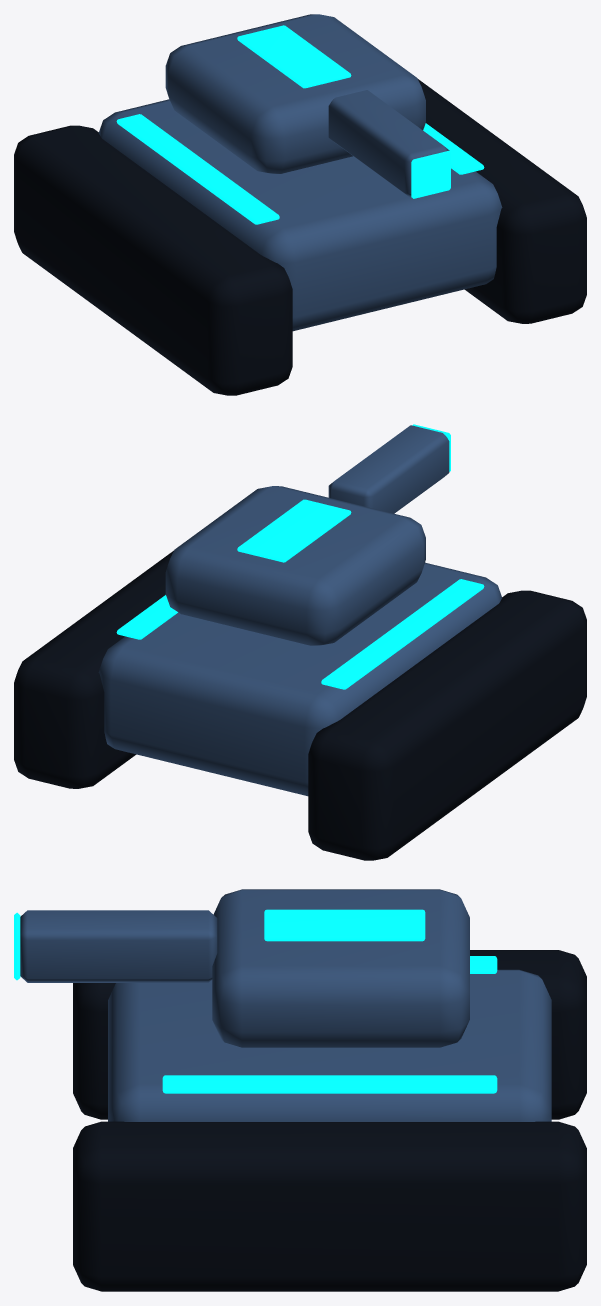
Rendered from NT_Tank_Cyan.fbx.
3 views of the same model, one above another, from view 1: azimuth 30°, elevation 25°; view 2: azimuth 150°, elevation 25°; view 3: azimuth 270°, elevation 25° (orthographic). The views are drawn at different scales.
Parts seen in each view (by area): view 1: NT_Tank_Cyan__TrackLeftMesh, NT_Tank_Cyan__BodyMesh, NT_Tank_Cyan__TurretMesh, NT_Tank_Cyan__TrackRightMesh, NT_Tank_Cyan__BarrelMesh; view 2: NT_Tank_Cyan__BodyMesh, NT_Tank_Cyan__TrackLeftMesh, NT_Tank_Cyan__TurretMesh, NT_Tank_Cyan__TrackRightMesh, NT_Tank_Cyan__BarrelMesh; view 3: NT_Tank_Cyan__TrackRightMesh, NT_Tank_Cyan__BodyMesh, NT_Tank_Cyan__TurretMesh, NT_Tank_Cyan__BarrelMesh, NT_Tank_Cyan__TrackLeftMesh.
Boxes of the visible parts, box(x1,y1,x2,y2) form: NT_Tank_Cyan__TrackLeftMesh: box(14, 125, 292, 395); NT_Tank_Cyan__BodyMesh: box(98, 99, 502, 331); NT_Tank_Cyan__TurretMesh: box(165, 14, 425, 173); NT_Tank_Cyan__TrackRightMesh: box(417, 78, 586, 323); NT_Tank_Cyan__BarrelMesh: box(328, 90, 450, 198); NT_Tank_Cyan__BodyMesh: box(98, 562, 502, 796); NT_Tank_Cyan__TrackLeftMesh: box(308, 590, 586, 860); NT_Tank_Cyan__TurretMesh: box(165, 486, 425, 645); NT_Tank_Cyan__TrackRightMesh: box(14, 550, 173, 788); NT_Tank_Cyan__BarrelMesh: box(328, 424, 450, 513); NT_Tank_Cyan__TrackRightMesh: box(73, 1121, 586, 1291); NT_Tank_Cyan__BodyMesh: box(108, 956, 551, 1121); NT_Tank_Cyan__TurretMesh: box(212, 889, 469, 1047); NT_Tank_Cyan__BarrelMesh: box(14, 910, 217, 982); NT_Tank_Cyan__TrackLeftMesh: box(73, 950, 586, 1119).
Size of the model in its own units: 2.1 by 1.22 by 2.31.
